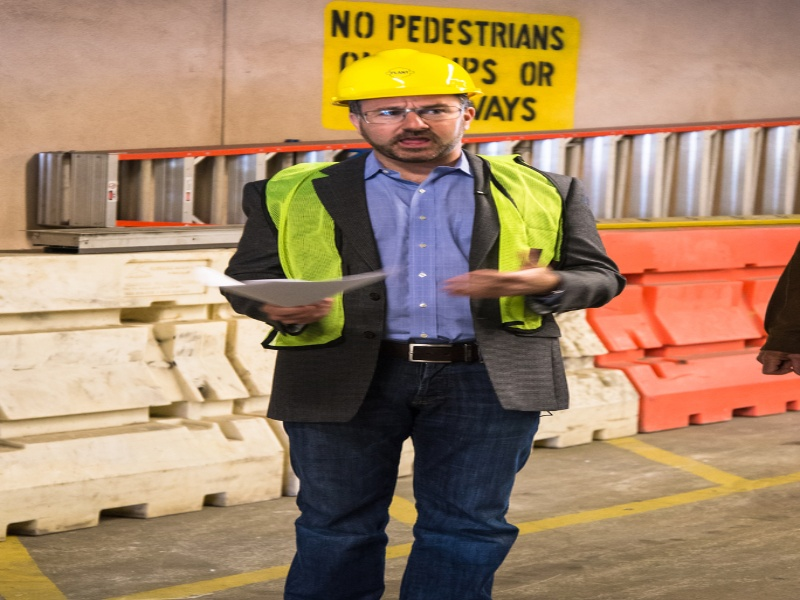Baret: (331, 49, 478, 99)
